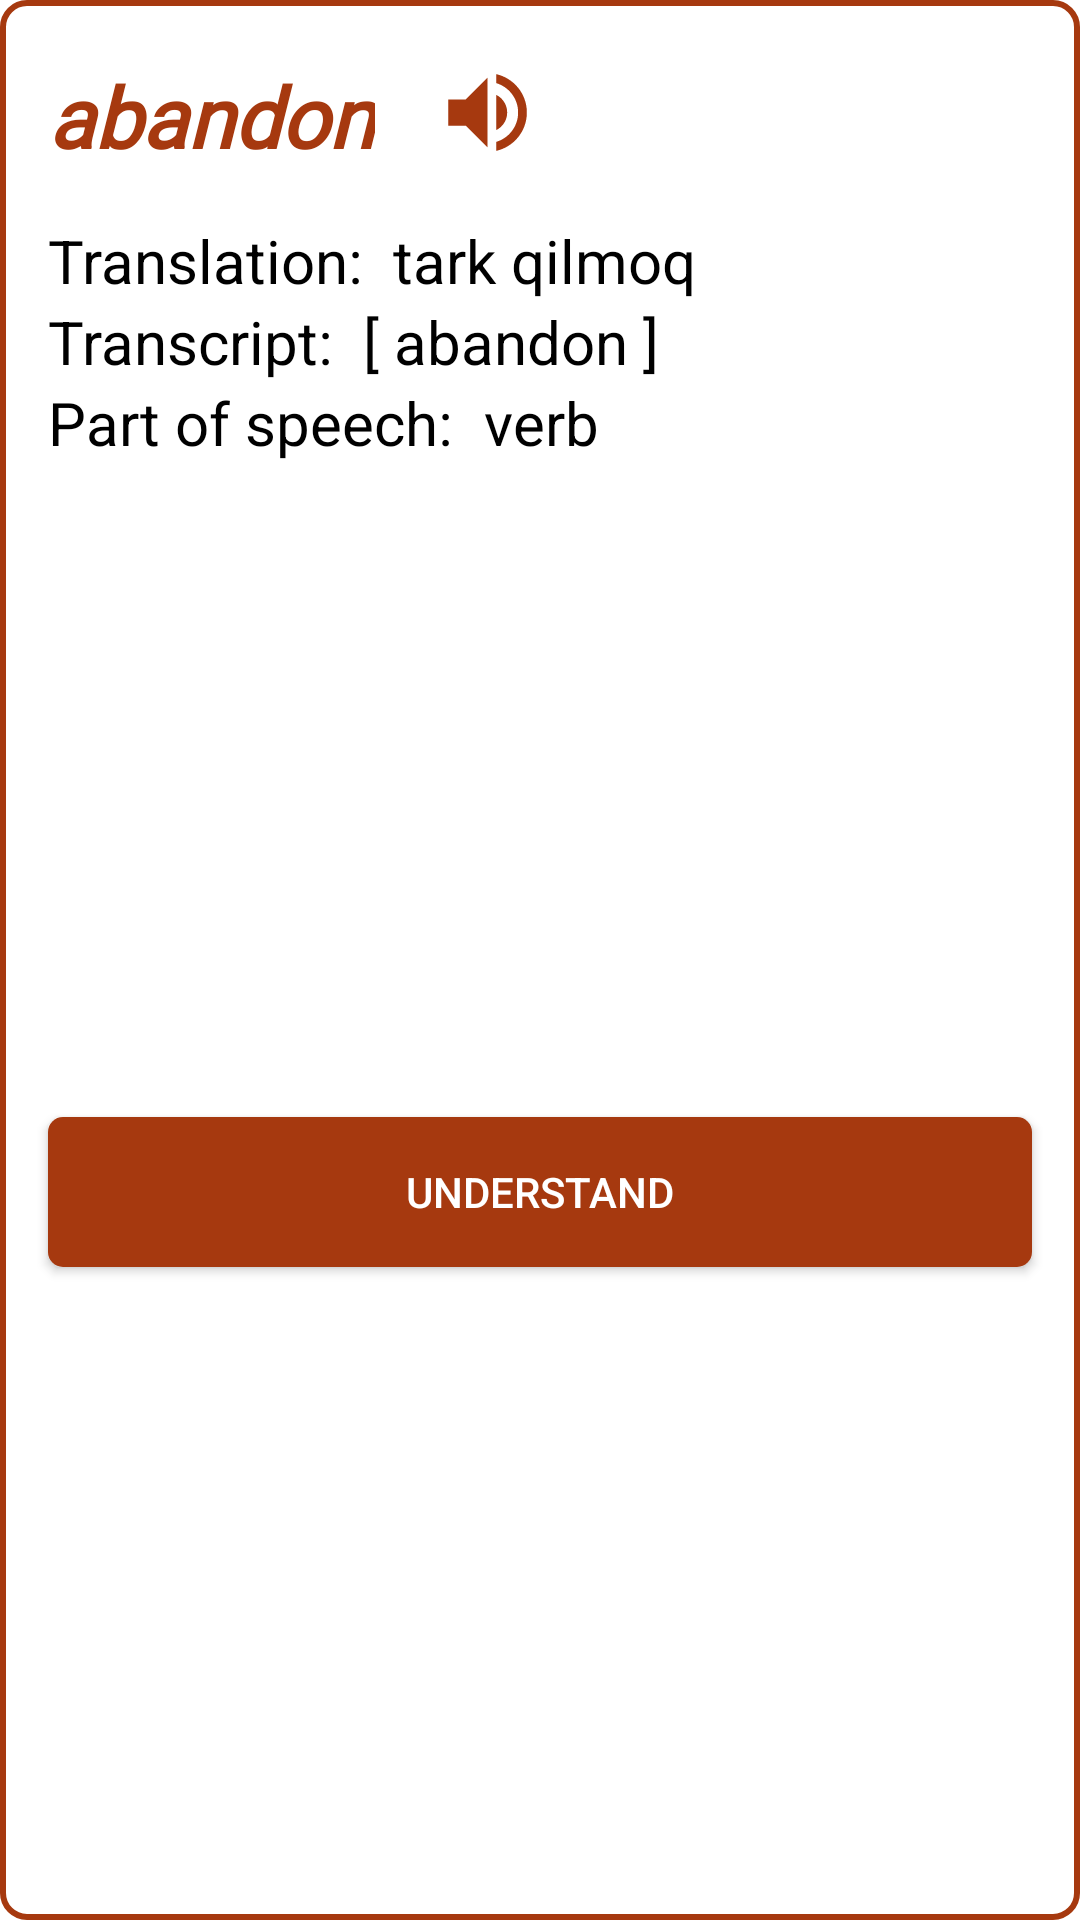

Icon click points for this 1080px×1920px phone screenshot, format point (x, y):
volume up: point (487, 112)
